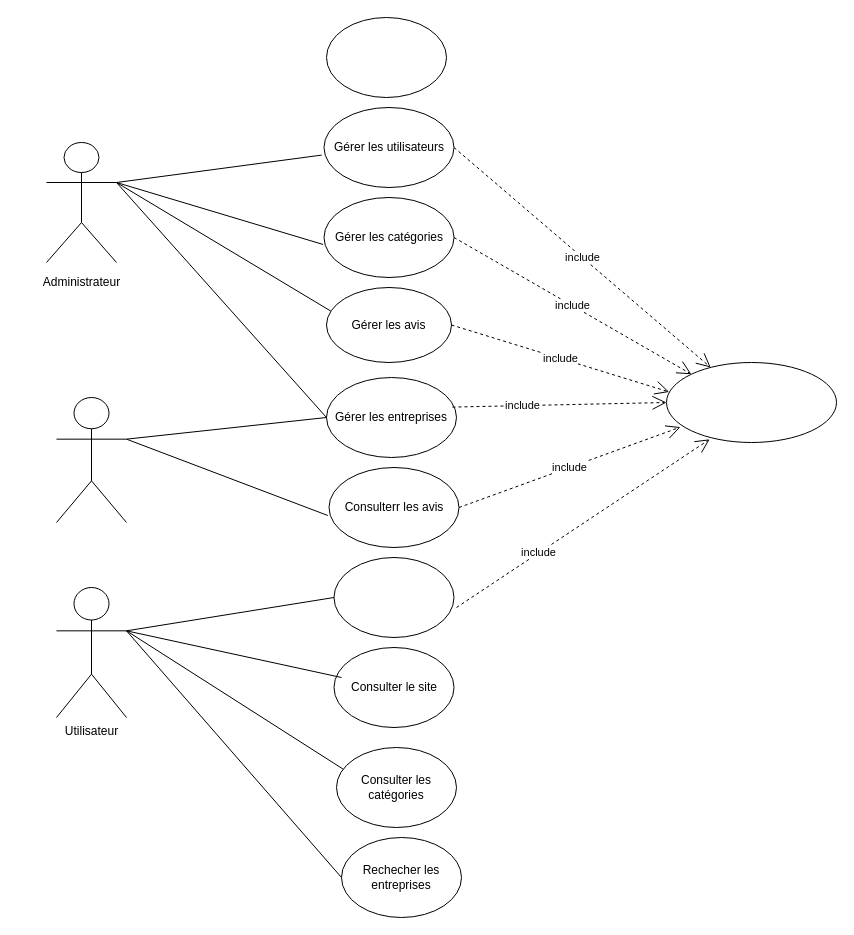
Image size: 854x935. Some labels were removed from this diagram. Each missing label, with the centre of its shape:
"Authentification" belongs at (751,402).
"Evaluer" belongs at (393,597).
"Propriétaire d'entreprise" belongs at (91,459).
"S'inscrire" belongs at (386,57).
